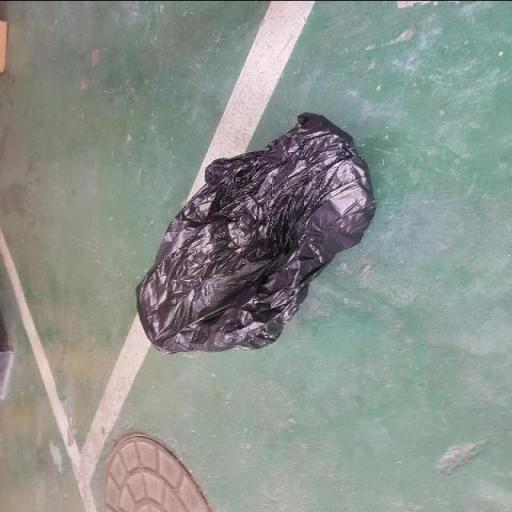plastic-bag: (133, 108, 379, 355)
